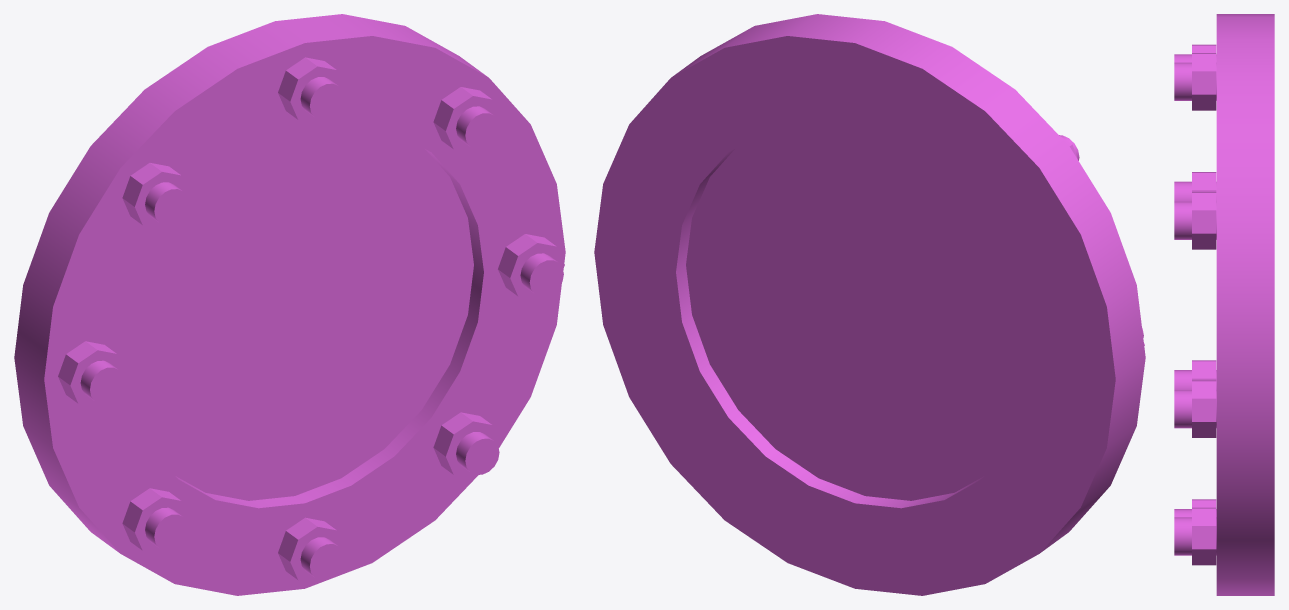
The model's file is Window.fbx.
3 views of the same model, side by side, from view 1: azimuth 30°, elevation 25°; view 2: azimuth 150°, elevation 25°; view 3: azimuth 270°, elevation 25° (orthographic). The views are drawn at different scales.
Parts seen in each view (by area): view 1: Window; view 2: Window; view 3: Window.
Boxes of the visible parts, left/top/right/bottom form: Window: left=14, top=14, right=565, bottom=595; Window: left=594, top=14, right=1145, bottom=595; Window: left=1174, top=14, right=1274, bottom=595.
Bounding box in the file's own units: 197 × 197 × 33.94.
